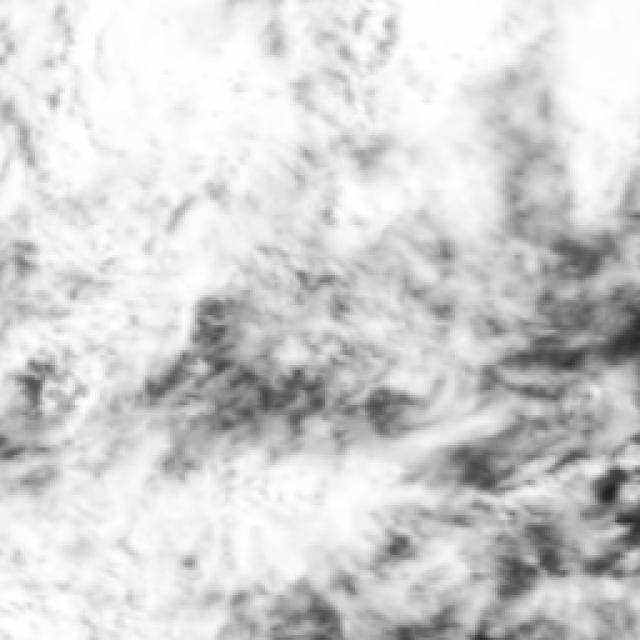CB: (59, 1, 249, 148)
